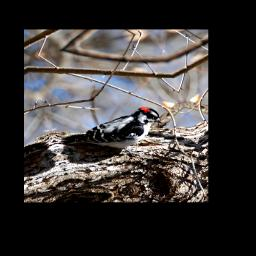Woodpecker: (55, 102, 171, 161)
